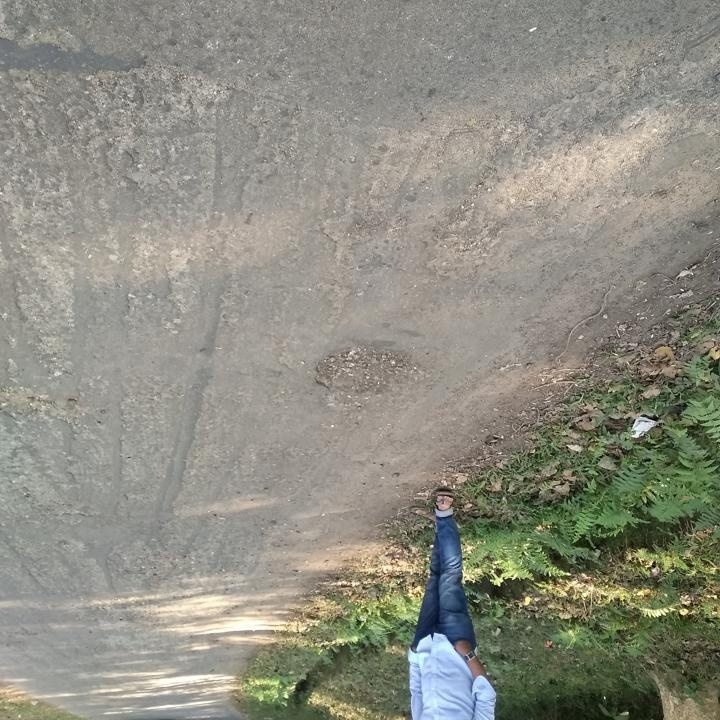pothole: (310, 341, 414, 398)
